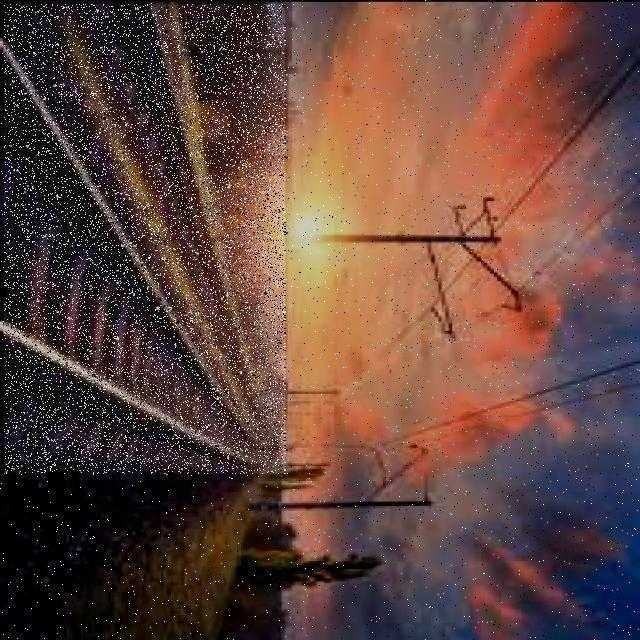rail: (5, 5, 286, 475)
